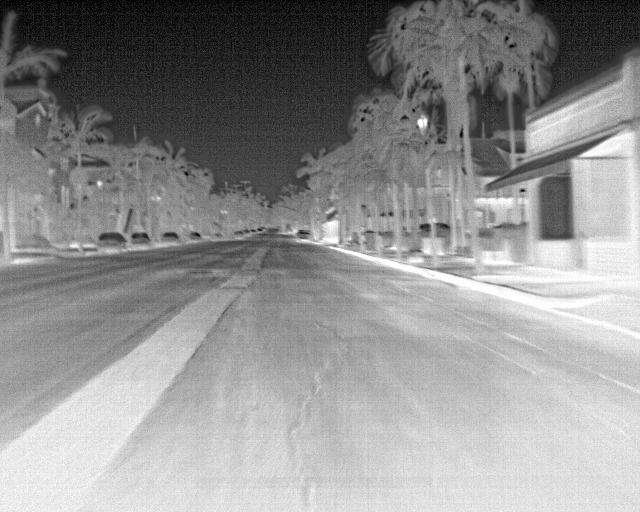bicycle: (96, 230, 126, 253), (130, 229, 150, 248), (161, 230, 180, 246), (294, 228, 313, 242), (188, 230, 205, 242)
